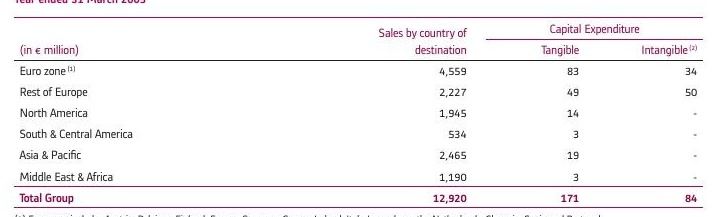table: (0, 0, 717, 217)
